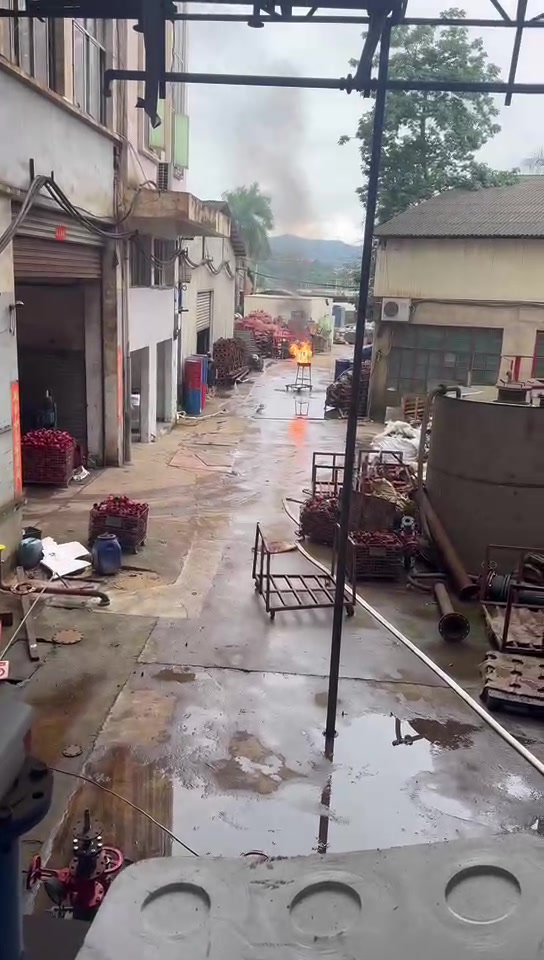fire: (289, 342, 313, 363)
